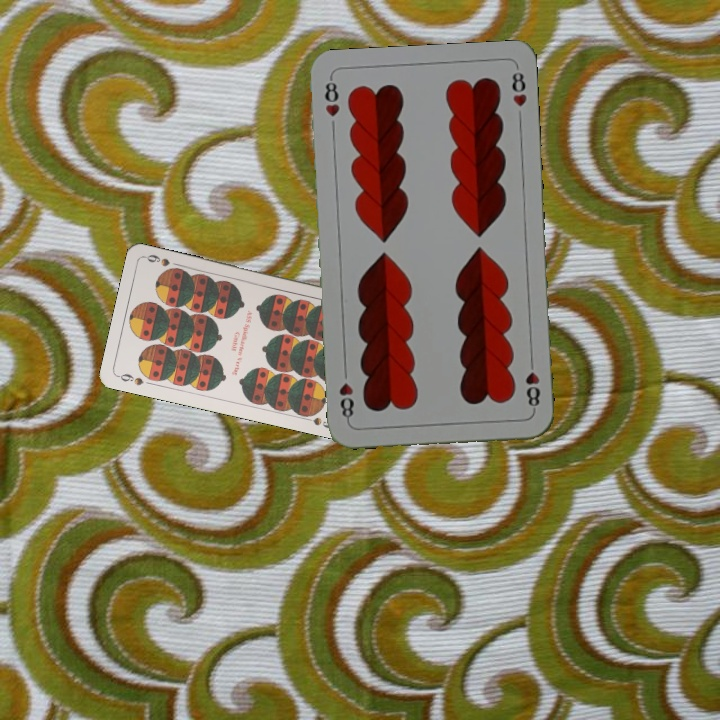H8: (521, 354, 543, 414), (321, 74, 342, 119)
S9: (114, 370, 146, 388)
